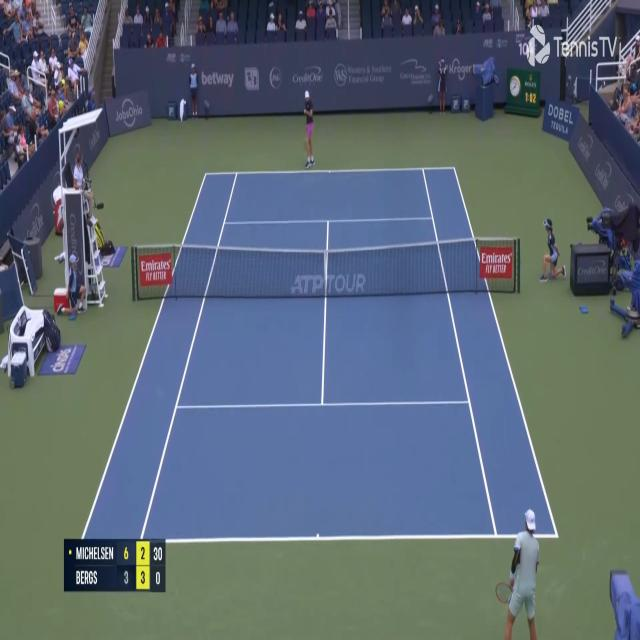tennis-player: (496, 506, 544, 639), (300, 88, 318, 170)
